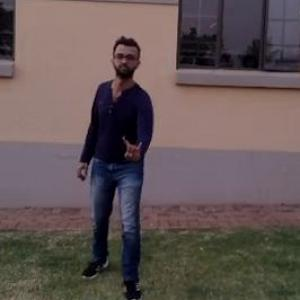takeoff-hand: (118, 128, 146, 162)
